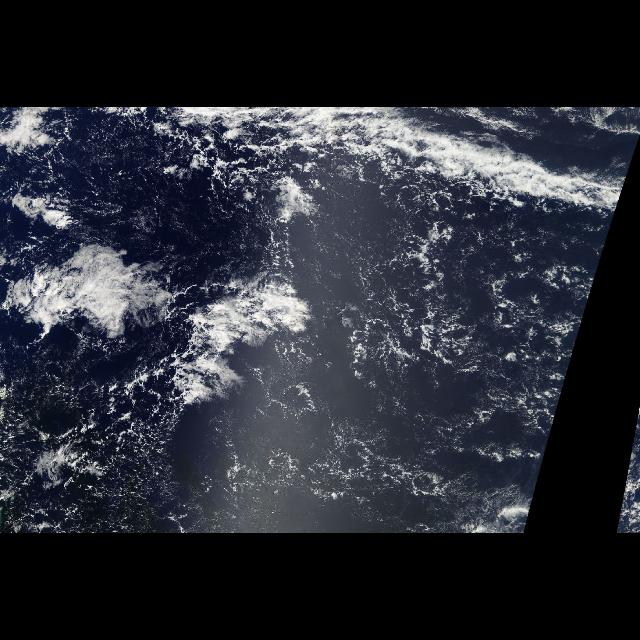Gravel: (295, 204, 595, 506)
